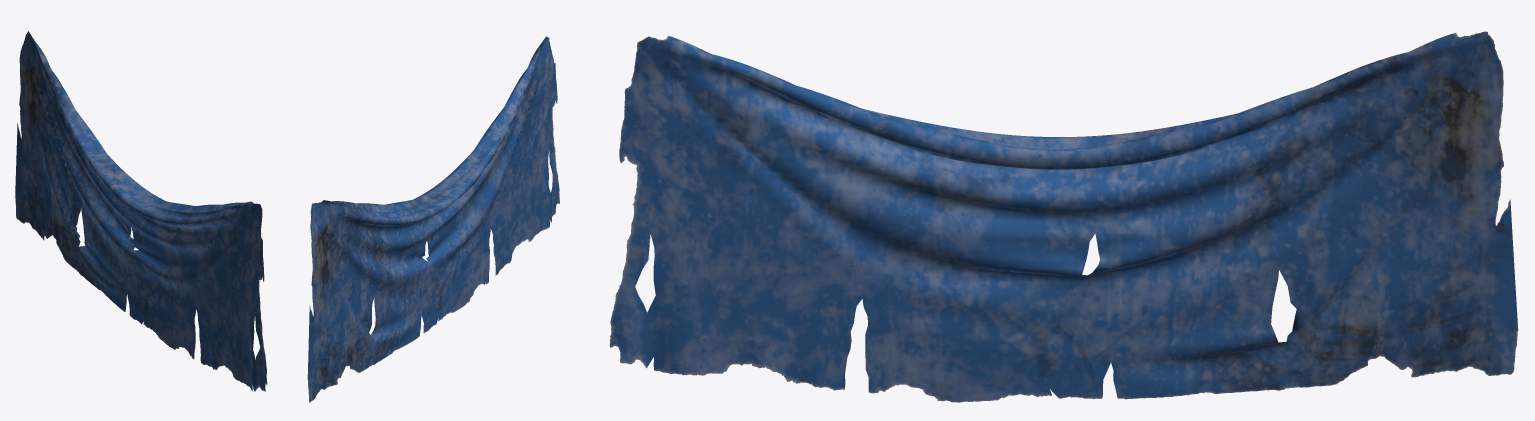
The model's file is SM_WallTarp03.fbx.
The picture shows the model from 3 angles, left to right: view 1: azimuth 30°, elevation 25°; view 2: azimuth 150°, elevation 25°; view 3: azimuth 270°, elevation 25°; orthographic projection. The views are drawn at different scales.
Visible parts, largest first — view 1: SM_WallTarp03_LOD0; view 2: SM_WallTarp03_LOD0; view 3: SM_WallTarp03_LOD0.
Part boxes in pixels (left/top/right/bottom): SM_WallTarp03_LOD0: left=15, top=31, right=267, bottom=391; SM_WallTarp03_LOD0: left=307, top=36, right=559, bottom=402; SM_WallTarp03_LOD0: left=609, top=31, right=1518, bottom=402.
Size of the model in its own units: 14.84 by 289 by 137.
1 material, 1 textured.
